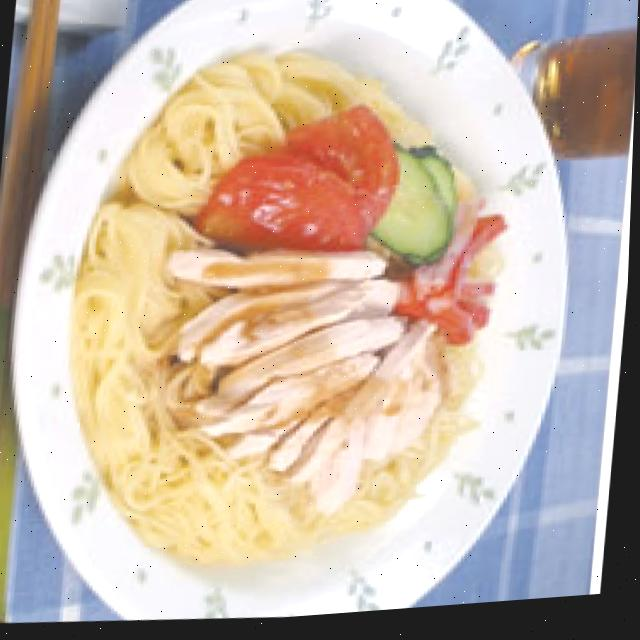面条主食: (0, 0, 609, 640)
